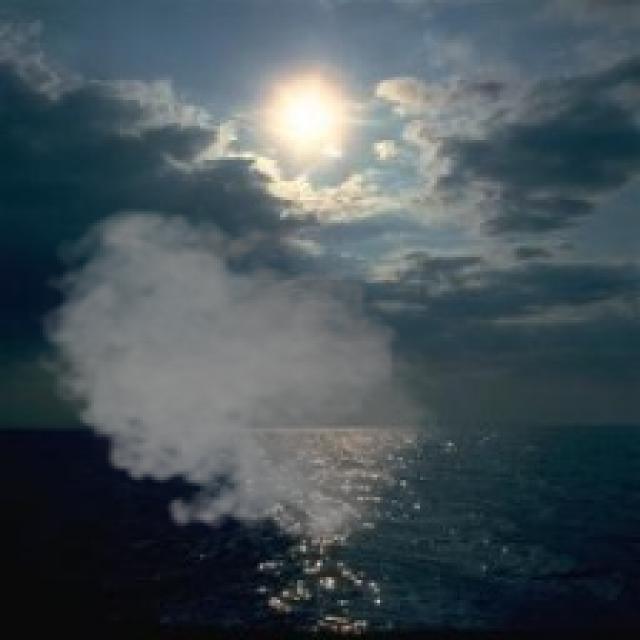Smoke: (28, 203, 454, 552)
